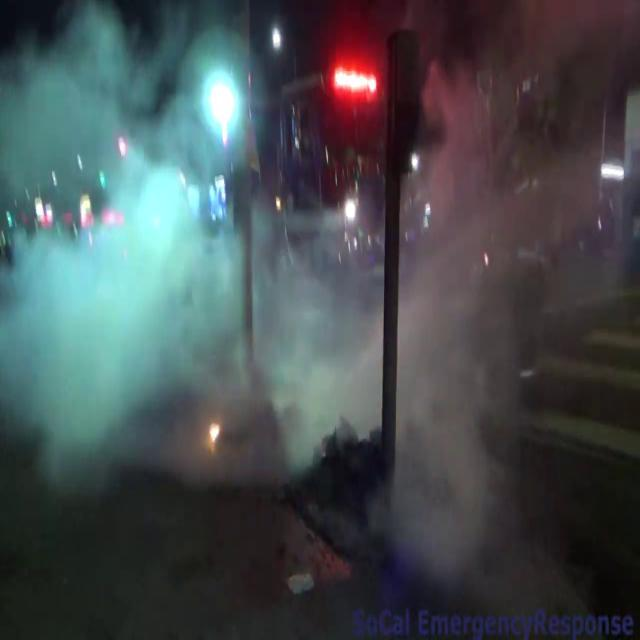Smoke: (379, 0, 639, 605), (0, 144, 395, 523)
